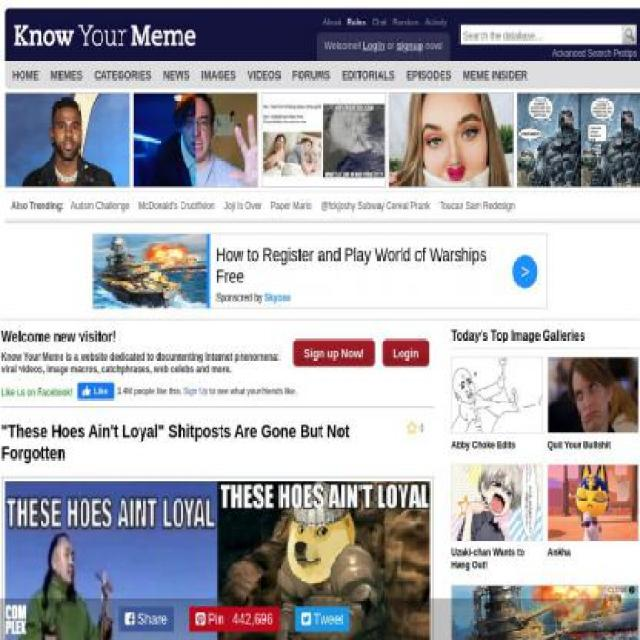button: (132, 93, 258, 187), (388, 93, 514, 187), (517, 93, 640, 189), (5, 93, 130, 187), (261, 93, 385, 187), (294, 339, 375, 367), (188, 607, 280, 631), (0, 597, 32, 639), (118, 607, 174, 631), (295, 607, 350, 631), (382, 339, 429, 367), (407, 420, 424, 434)
field: (460, 24, 622, 44)
